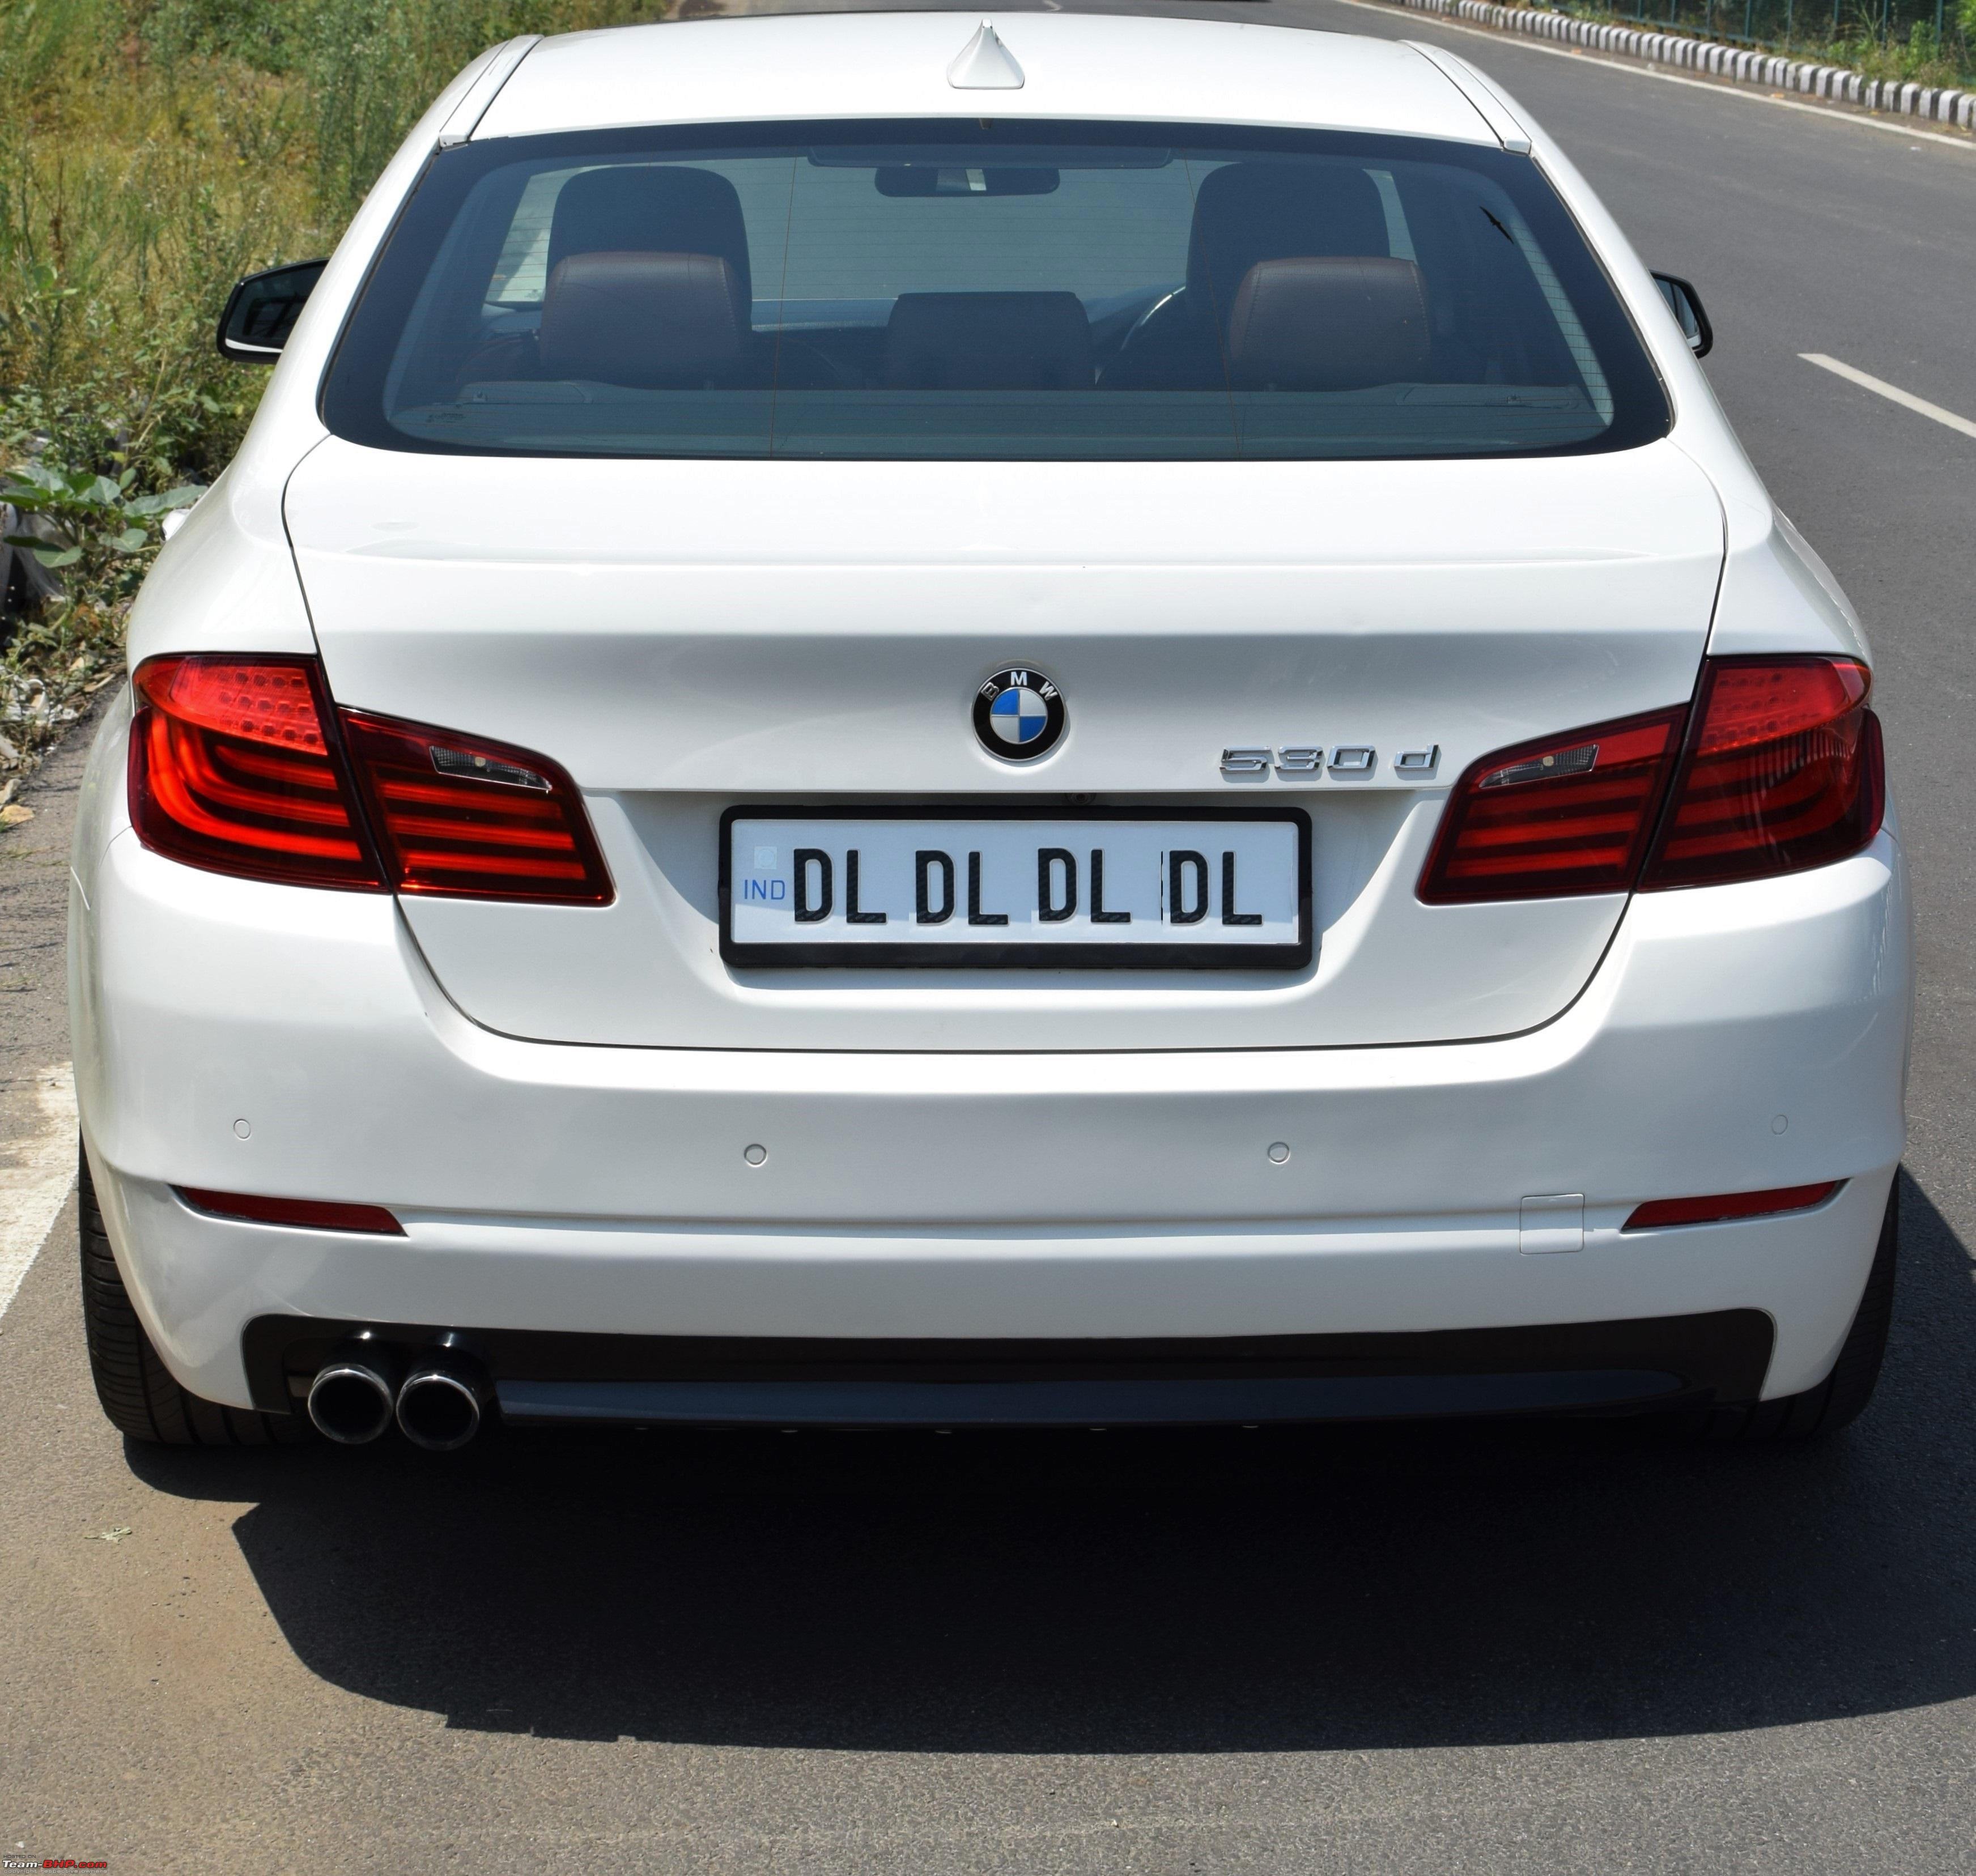bmw: (51, 2, 1950, 1543)
